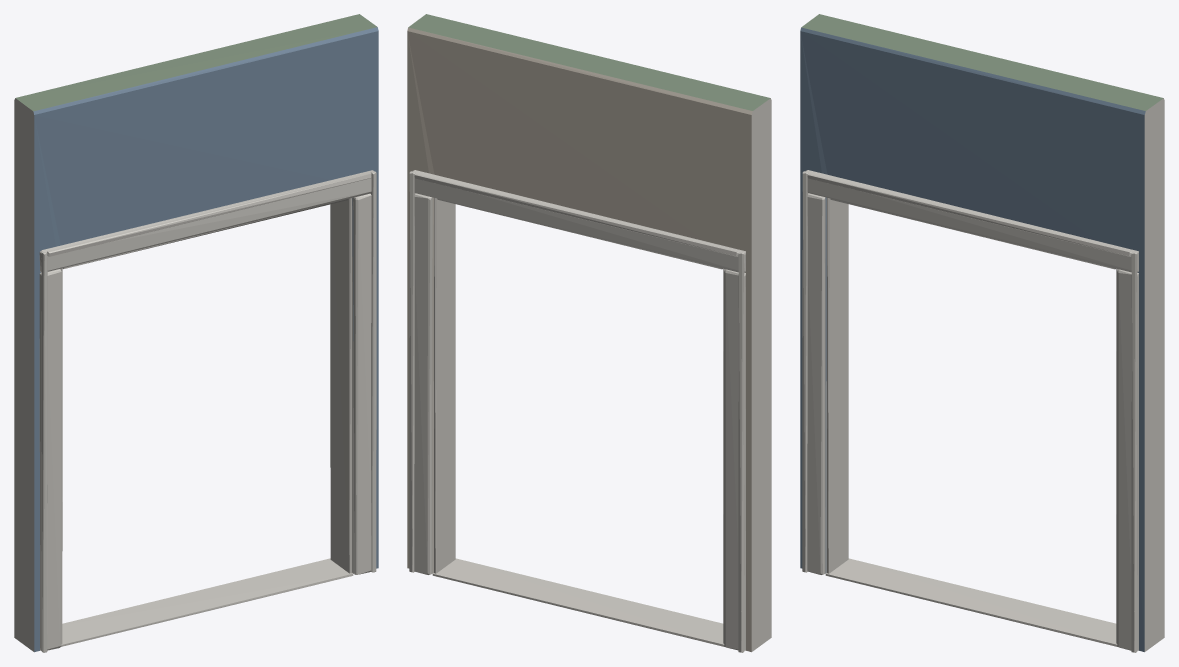
The model's file is SM_Kit_Wall_Door2_LOD1.glb.
The picture shows the model from 3 angles, left to right: view 1: azimuth 30°, elevation 25°; view 2: azimuth 150°, elevation 25°; view 3: azimuth 330°, elevation 25°; orthographic projection.
Visible parts, largest first — view 1: SM_Kit_Wall_Door2_LOD1; view 2: SM_Kit_Wall_Door2_LOD1; view 3: SM_Kit_Wall_Door2_LOD1.
Part boxes in pixels (<box>): SM_Kit_Wall_Door2_LOD1: <box>14,14,378,652</box>; SM_Kit_Wall_Door2_LOD1: <box>407,14,771,652</box>; SM_Kit_Wall_Door2_LOD1: <box>800,14,1164,652</box>.
Size of the model in its own units: 2 by 3 by 0.28.
